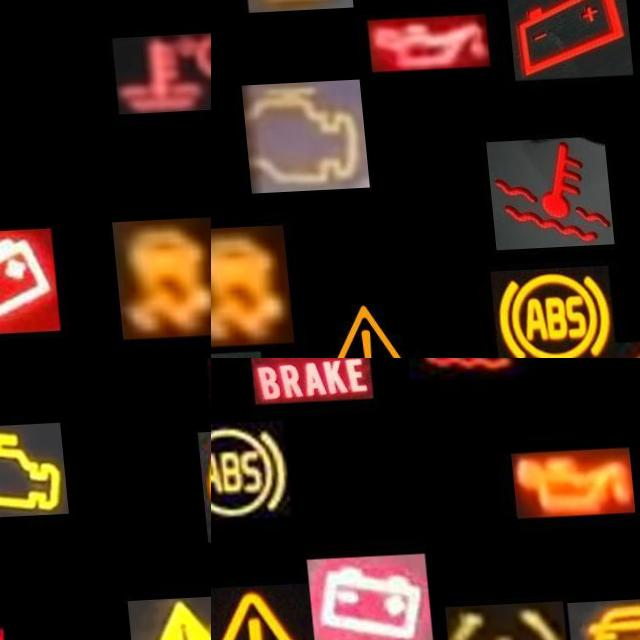Central Warning lamp: (293, 288, 420, 358), (211, 585, 309, 640), (117, 599, 211, 640)
Engine cooling system: (480, 141, 606, 254), (106, 36, 211, 117), (398, 358, 525, 386)
